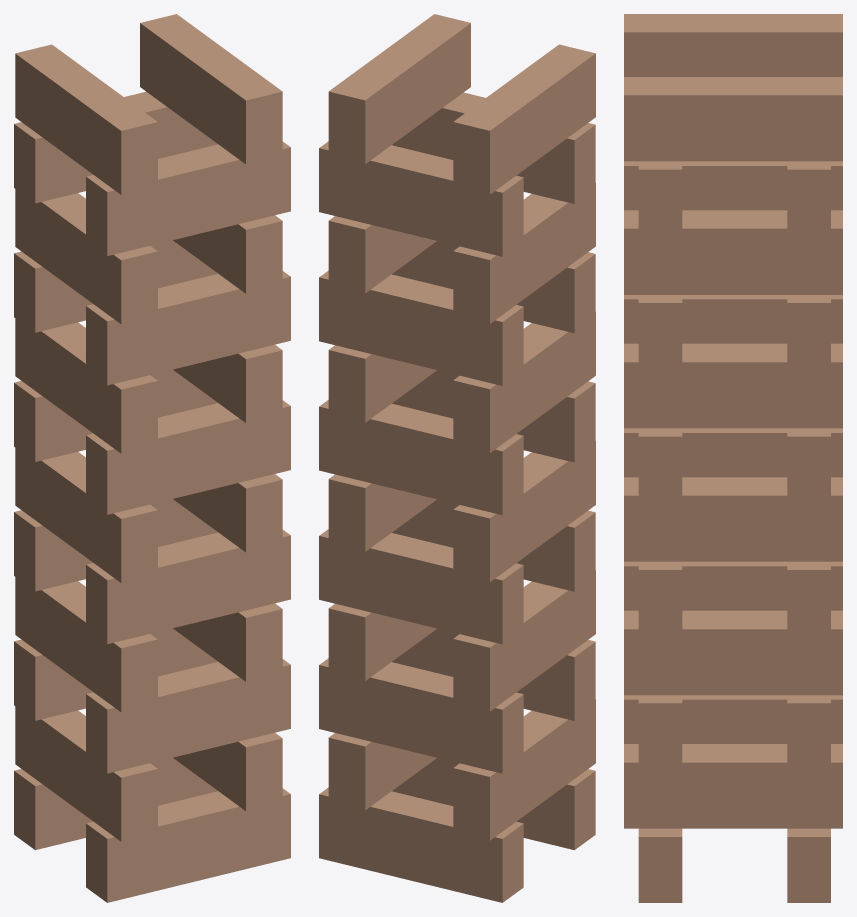
File: flat_tower.dae
3 renders of one model, left to right at view 1: azimuth 30°, elevation 25°; view 2: azimuth 150°, elevation 25°; view 3: azimuth 270°, elevation 25°, orthographic. The views are drawn at different scales.
Parts seen in each view (by area): view 1: base (×24); view 2: base (×24); view 3: base (×24).
Part boxes in pixels (<box>): base (×24): <box>14,14,290,902</box>; base (×24): <box>319,14,595,902</box>; base (×24): <box>624,14,842,902</box>.
Bounding box in the file's own units: 0.1524 × 0.1524 × 0.615.
